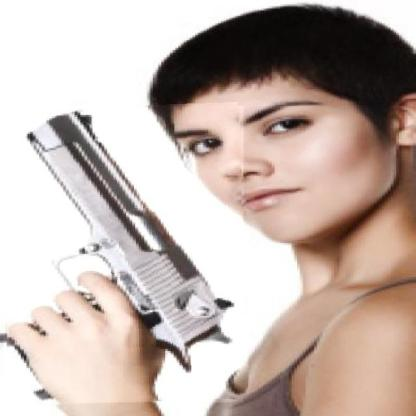handgun: (1, 104, 246, 404)
